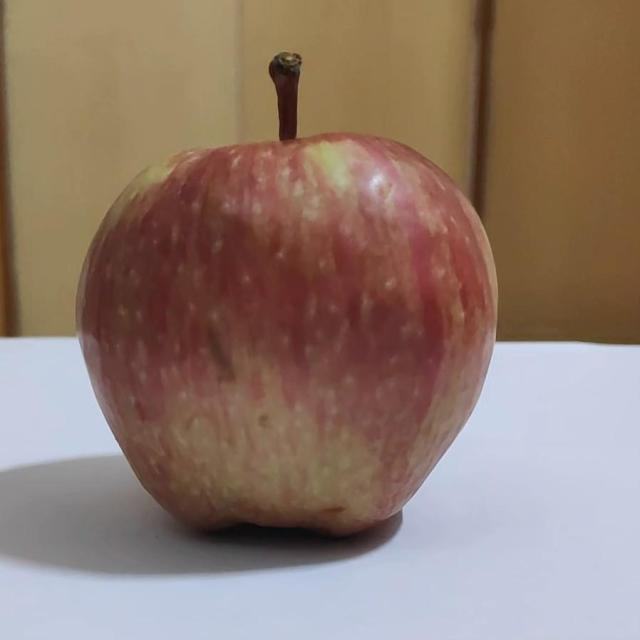Apple: (77, 53, 497, 534)
